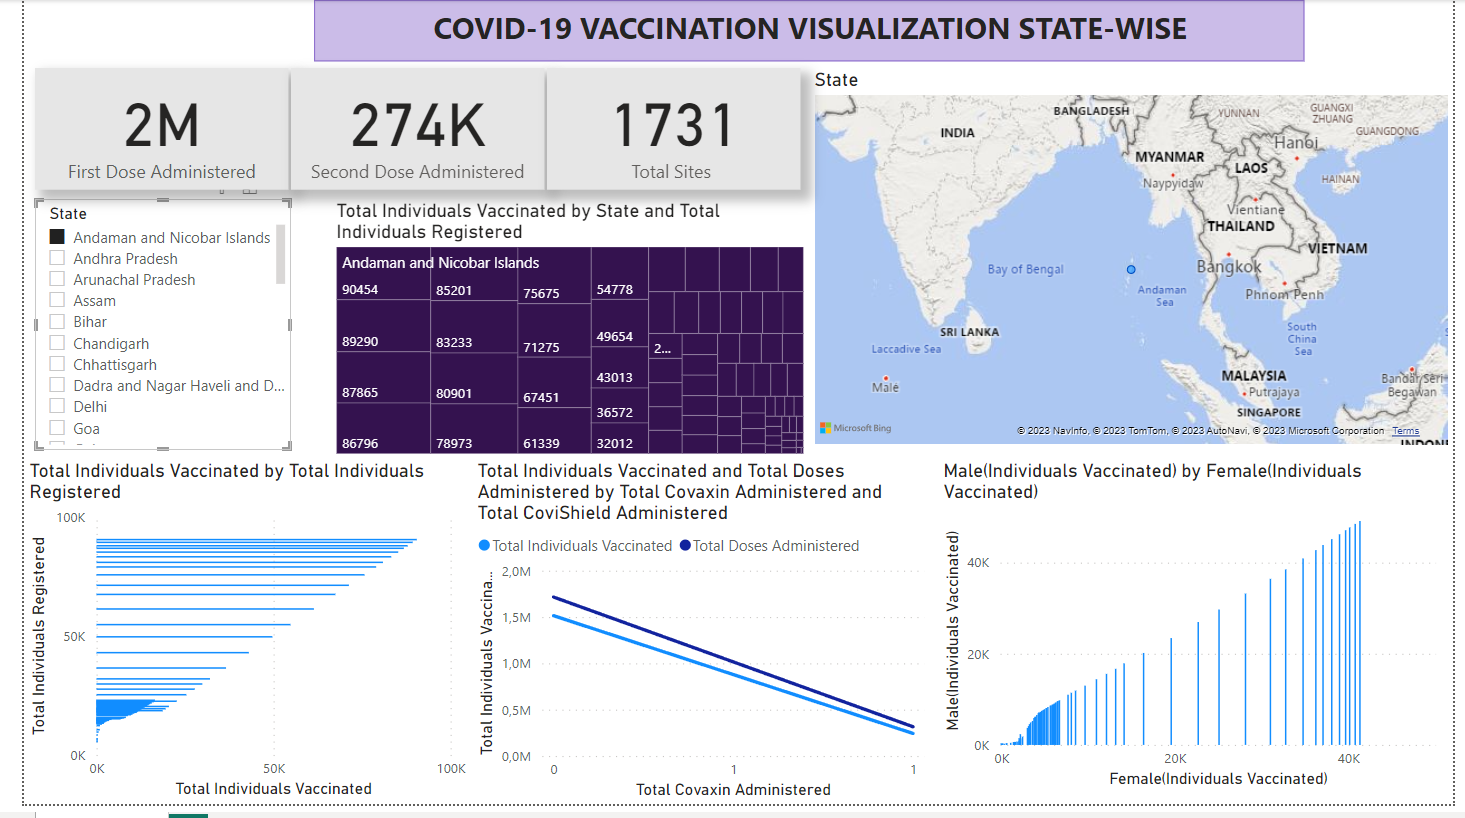

The page's visual inventory and layout, read from the dashboard file:
{"tool":"powerbi","page":{"name":"Covid-19 Vaccine ","canvas":[1280,720],"ordinal":0},"visuals":[{"type":"barChart","fields":{"Category":["covid_vaccine_statewise.Total Individuals Registered"],"Y":["Sum(covid_vaccine_statewise.Total Individuals Vaccinated)"]},"box":[0,411,401.2,308.1],"z":0},{"type":"map","fields":{"Category":["covid_vaccine_statewise.State"]},"box":[703,60.9,576.7,342.1],"z":1000},{"type":"columnChart","fields":{"Category":["covid_vaccine_statewise.Female(Individuals Vaccinated)"],"Y":["Sum(covid_vaccine_statewise.Male(Individuals Vaccinated))"]},"box":[818.5,411,461.2,299.1],"z":2000},{"type":"lineStackedColumnComboChart","fields":{"Category":["covid_vaccine_statewise.Total Covaxin Administered"],"Series":["covid_vaccine_statewise.Total CoviShield Administered"],"Y2":["Sum(covid_vaccine_statewise.Total Individuals Vaccinated)","Sum(covid_vaccine_statewise.Total Doses Administered)"]},"box":[401.2,411,410.1,309],"z":3000},{"type":"treemap","fields":{"Group":["covid_vaccine_statewise.State"],"Values":["Sum(covid_vaccine_statewise.Total Individuals Vaccinated)"],"Details":["covid_vaccine_statewise.Total Individuals Registered"]},"box":[274.9,178.2,428.1,232.8],"z":4000},{"type":"slicer","fields":{"Values":["covid_vaccine_statewise.State"]},"box":[9.9,178.2,229.3,224.8],"z":5000},{"type":"textbox","box":[259.7,0,886.6,54.6],"z":6000},{"type":"card","fields":{"Values":["Sum(covid_vaccine_statewise.First Dose Administered)"]},"box":[9.9,60.9,226.6,109.3],"z":7000},{"type":"card","fields":{"Values":["Sum(covid_vaccine_statewise.Second Dose Administered)"]},"box":[239.1,60.9,226.6,109.3],"z":8000},{"type":"card","fields":{"Values":["Sum(covid_vaccine_statewise.Total Sites )"]},"box":[468.4,60.9,226.6,109.3],"z":9000}]}

Visuals, with their boxes in screenshot pixels (x1, y1, x2, y2), scaled from the page's 1280x720 canvas onto the 1465x818 screenshot:
barChart - covid_vaccine_statewise.Total Individuals Registered x Sum(covid_vaccine_statewise.Total Individuals Vaccinated): box(0, 467, 459, 817)
map - covid_vaccine_statewise.State: box(805, 69, 1464, 458)
columnChart - covid_vaccine_statewise.Female(Individuals Vaccinated) x Sum(covid_vaccine_statewise.Male(Individuals Vaccinated)): box(937, 467, 1464, 807)
lineStackedColumnComboChart - covid_vaccine_statewise.Total Covaxin Administered x covid_vaccine_statewise.Total CoviShield Administered: box(459, 467, 929, 817)
treemap - covid_vaccine_statewise.State x Sum(covid_vaccine_statewise.Total Individuals Vaccinated): box(315, 202, 805, 467)
slicer - covid_vaccine_statewise.State: box(11, 202, 274, 458)
textbox: box(297, 0, 1312, 62)
card - Sum(covid_vaccine_statewise.First Dose Administered): box(11, 69, 271, 193)
card - Sum(covid_vaccine_statewise.Second Dose Administered): box(274, 69, 533, 193)
card - Sum(covid_vaccine_statewise.Total Sites ): box(536, 69, 795, 193)
